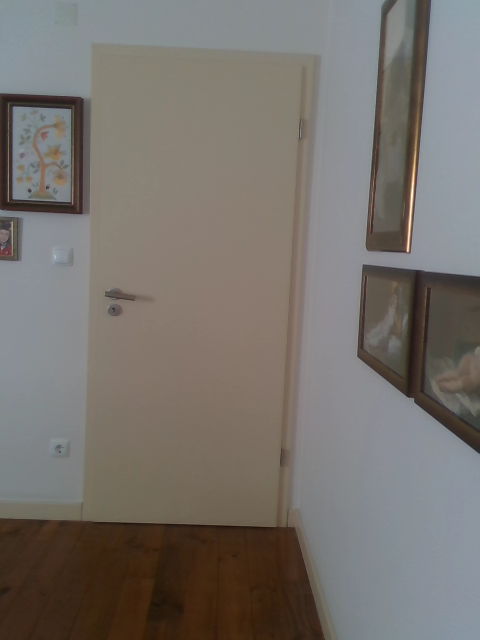closed: (77, 46, 310, 528)
